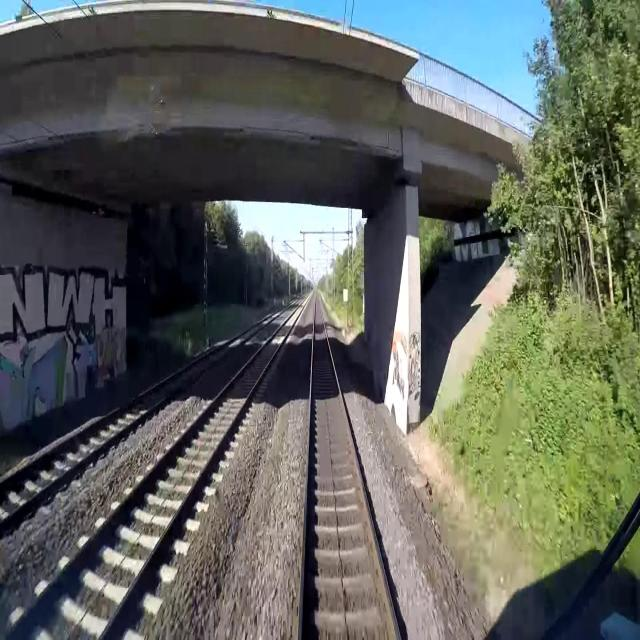rail-track: (7, 300, 305, 639), (0, 317, 271, 519), (303, 295, 396, 639)
